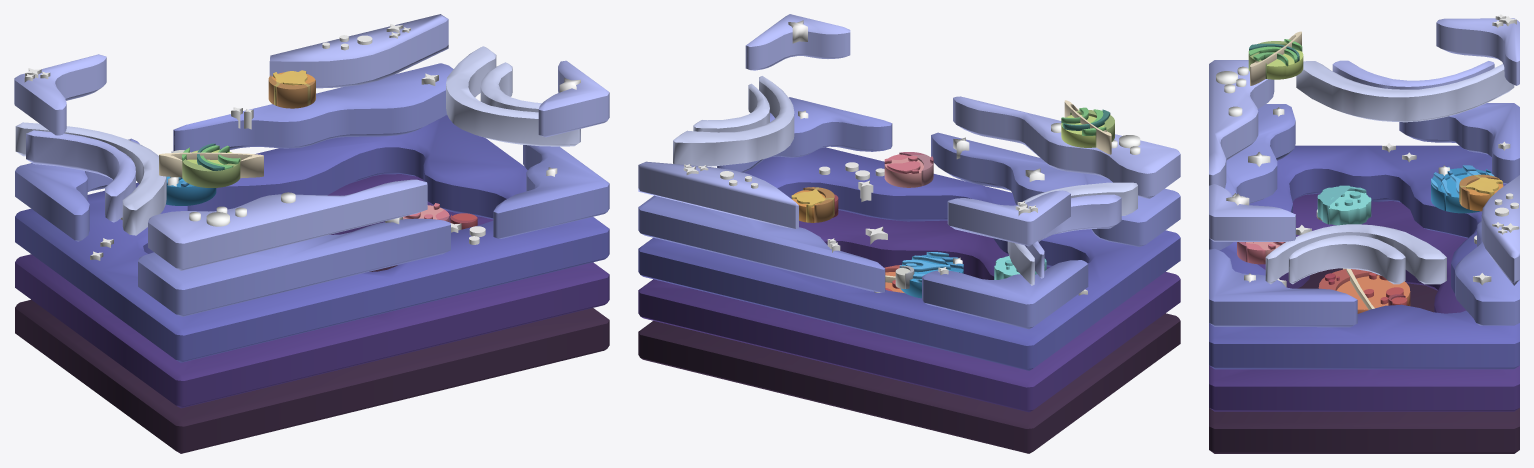
The model's file is Level_P_13.fbx.
3 views of the same model, side by side, from view 1: azimuth 30°, elevation 25°; view 2: azimuth 150°, elevation 25°; view 3: azimuth 270°, elevation 25° (orthographic). The views are drawn at different scales.
Parts seen in each view (by area): view 1: Curve.016, Curve.015, Curve, Curve.008, Curve.013, Curve.012, Curve.069, Curve.048, Curve.062, Curve.011, Curve.006, Curve.068 (+6 smaller); view 2: Curve.016, Curve.015, Curve, Curve.012, Curve.013, Curve.008, Curve.011, Curve.069, Curve.062, Curve.048, Curve.068, Curve.010 (+7 smaller); view 3: Curve.016, Curve.015, Curve, Curve.048, Curve.065, Curve.013, Curve.011, Curve.008, Curve.062, Curve.004, Curve.012, Curve.010 (+9 smaller).
Part boxes in pixels (<box>): Curve.016: <box>15,115,609,362</box>; Curve.015: <box>15,174,609,408</box>; Curve: <box>15,265,609,453</box>; Curve.008: <box>138,217,450,316</box>; Curve.013: <box>148,179,427,270</box>; Curve.012: <box>173,63,453,152</box>; Curve.069: <box>269,14,448,88</box>; Curve.048: <box>493,145,609,238</box>; Curve.062: <box>446,46,580,146</box>; Curve.011: <box>15,138,139,241</box>; Curve.006: <box>26,130,135,222</box>; Curve.068: <box>14,54,106,135</box>; Curve.016: <box>638,147,1180,370</box>; Curve.015: <box>638,210,1180,412</box>; Curve: <box>638,313,1180,453</box>; Curve.012: <box>638,195,885,292</box>; Curve.013: <box>953,96,1180,198</box>; Curve.008: <box>931,132,1180,246</box>; Curve.011: <box>922,260,1088,329</box>; Curve.069: <box>638,161,798,228</box>; Curve.062: <box>673,76,794,166</box>; Curve.048: <box>717,97,892,172</box>; Curve.068: <box>947,190,1070,246</box>; Curve.010: <box>745,14,850,70</box>; Curve.016: <box>1209,143,1519,369</box>; Curve.015: <box>1209,193,1519,411</box>; Curve: <box>1209,268,1519,453</box>; Curve.048: <box>1209,248,1357,327</box>; Curve.065: <box>1296,61,1514,122</box>; Curve.013: <box>1209,60,1274,188</box>; Curve.011: <box>1399,103,1519,184</box>; Curve.008: <box>1209,104,1295,250</box>; Curve.062: <box>1265,224,1446,284</box>; Curve.004: <box>1288,235,1405,284</box>; Curve.012: <box>1455,221,1519,325</box>; Curve.010: <box>1209,184,1295,241</box>.
Bounding box in the file's own units: 13.12 × 7.65 × 8.74.
